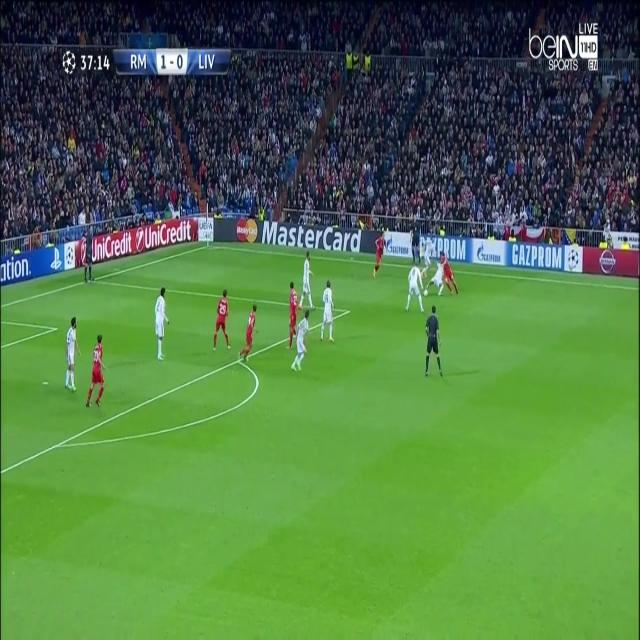Ball: (421, 285, 430, 299)
Player: (84, 333, 108, 414), (63, 316, 84, 398), (210, 287, 233, 357), (288, 309, 312, 375), (153, 286, 172, 365), (239, 300, 260, 367), (297, 250, 316, 312), (319, 277, 336, 346), (403, 265, 425, 316), (426, 253, 449, 300), (438, 247, 458, 296), (369, 230, 388, 280), (288, 280, 298, 352)
Referee: (422, 304, 444, 379), (82, 226, 95, 283), (410, 213, 422, 264)
